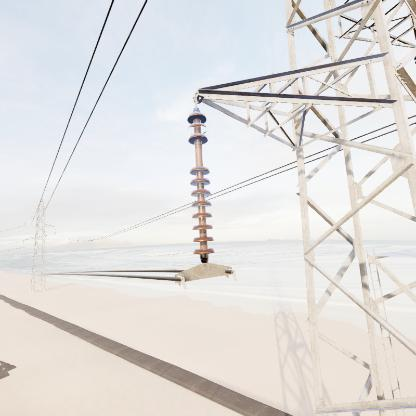insulator: (183, 108, 223, 266)
